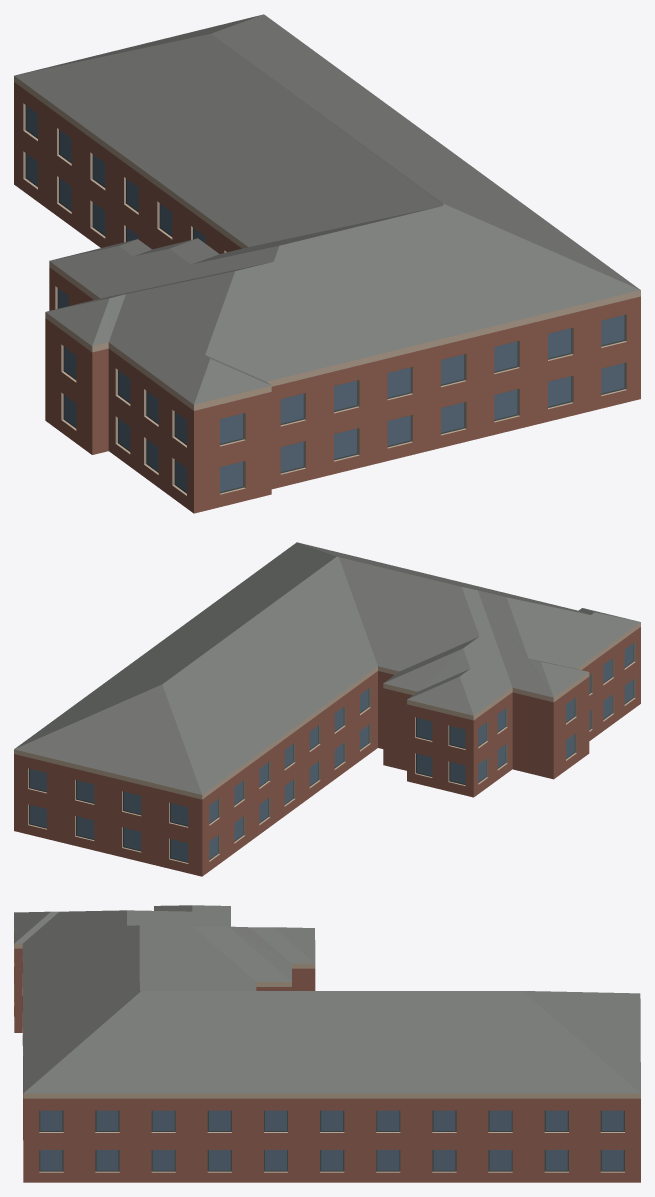
File: dc-au-clark-hall.detail.glb
3 renders of one model, top to bottom at view 1: azimuth 30°, elevation 25°; view 2: azimuth 150°, elevation 25°; view 3: azimuth 270°, elevation 25°, orthographic. The views are drawn at different scales.
Visible parts, largest first — view 1: Clark Hall; view 2: Clark Hall; view 3: Clark Hall.
Part boxes in pixels (bbox=[...]): Clark Hall: bbox=[14, 14, 640, 513]; Clark Hall: bbox=[14, 542, 640, 876]; Clark Hall: bbox=[14, 905, 640, 1182].
Bounding box in the file's own units: 25.25 × 8.9 × 35.67.
